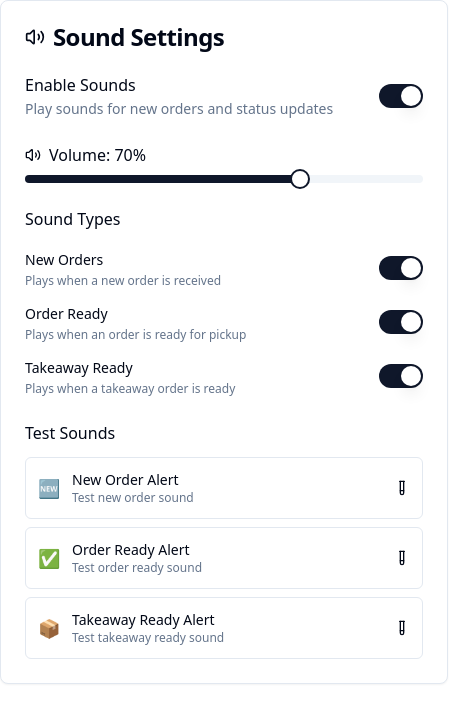
Test: SoundSettings › Sound Testing › should show loading spinner while testing sound
The width and height of the screenshot is (465, 701).
Click the button "🆕 New Order Alert Test new order sound".
click(125, 480)  # box [25,457,423,519]
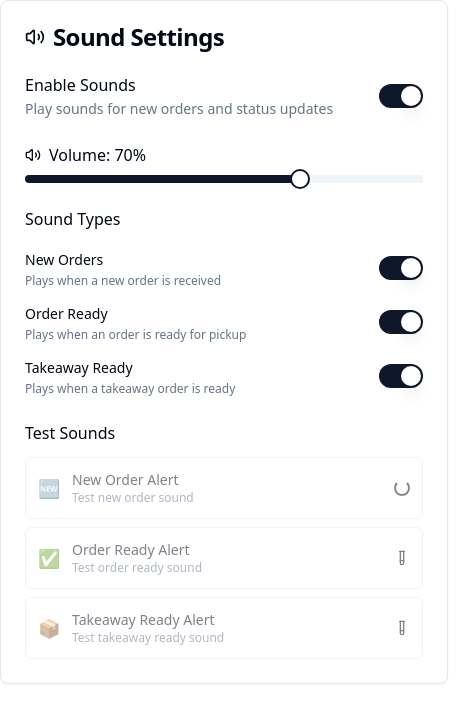
Expected: the element with class "animate-spin" is shown, [394,480,410,496]
